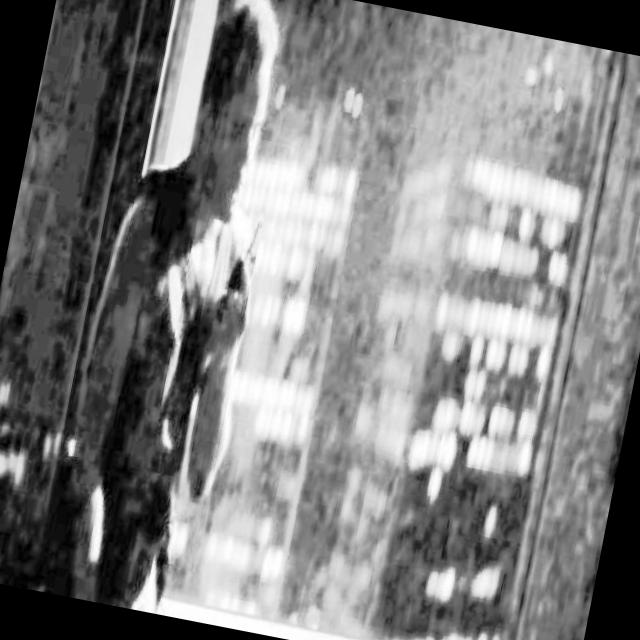Person: (37, 0, 317, 621)
